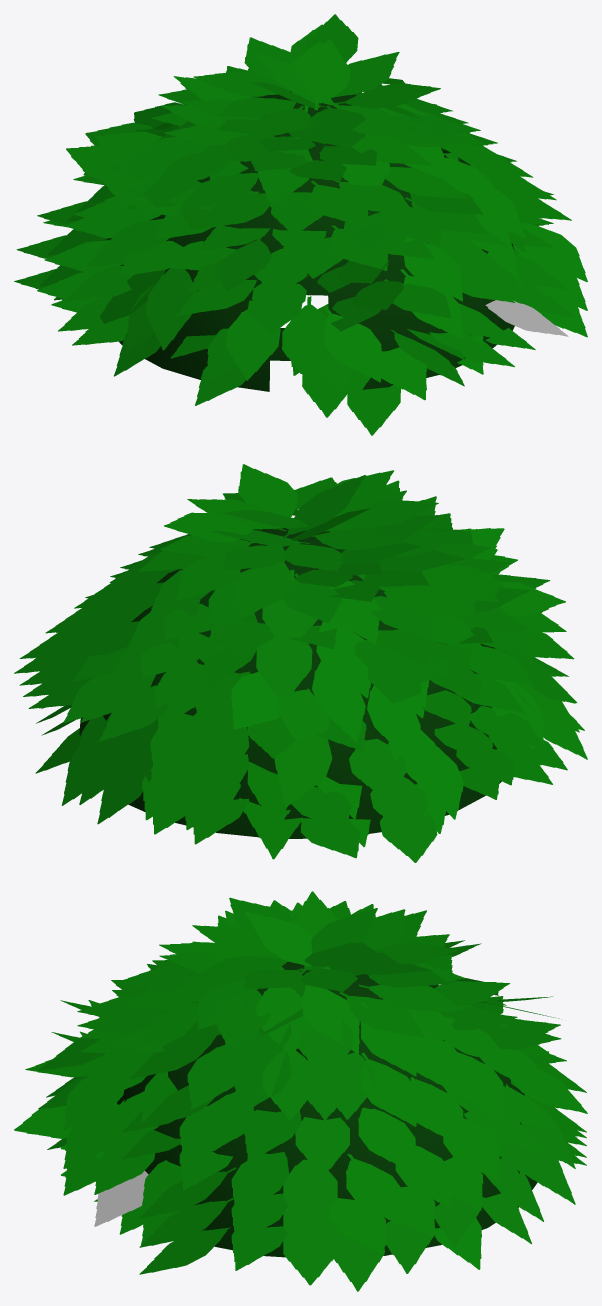
The model's file is bush.fbx.
The picture shows the model from 3 angles, top to bottom: view 1: azimuth 30°, elevation 25°; view 2: azimuth 150°, elevation 25°; view 3: azimuth 270°, elevation 25°; orthographic projection. The views are drawn at different scales.
Visible parts, largest first — view 1: pSphere2; view 2: pSphere2; view 3: pSphere2.
Part boxes in pixels (x1,y1,x2,y2): pSphere2: [14, 14, 587, 435]; pSphere2: [14, 464, 587, 862]; pSphere2: [14, 891, 587, 1291].
Size of the model in its own units: 23.46 by 12.04 by 23.23.
